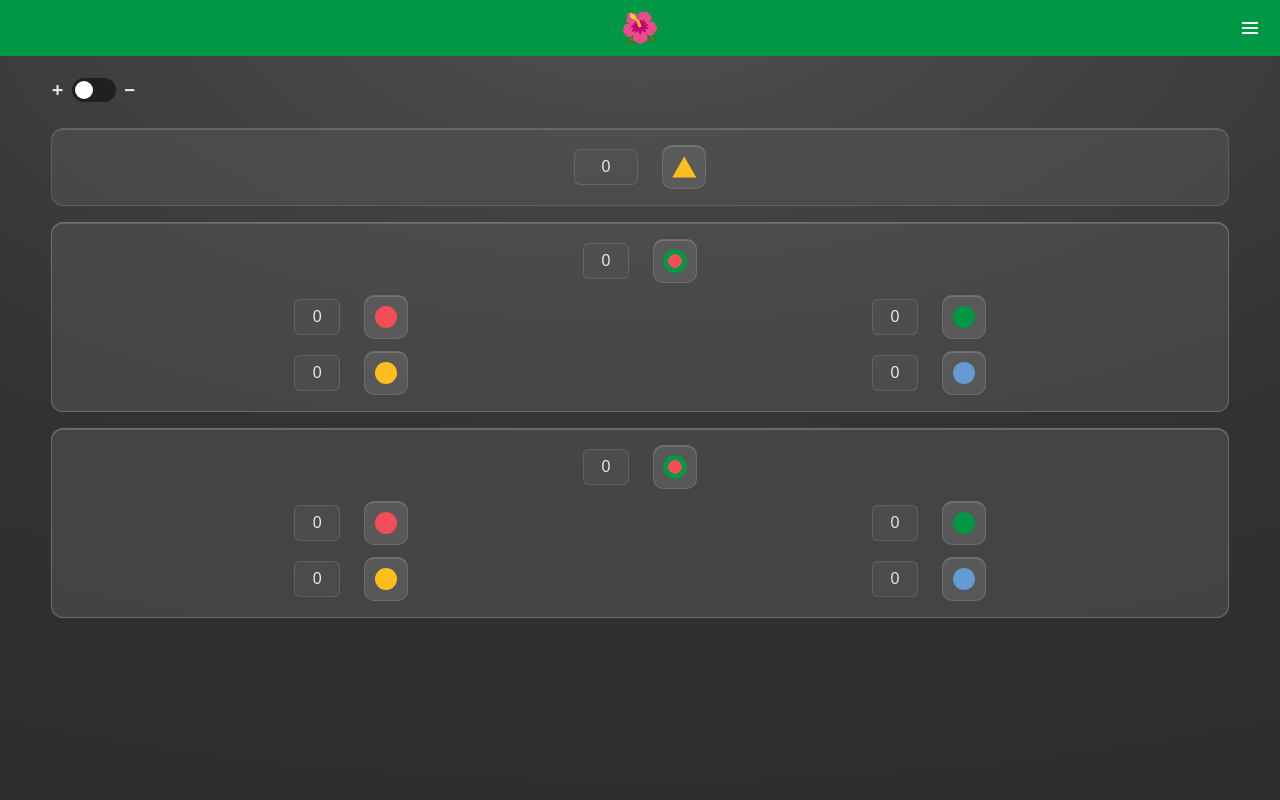
Test case: サイドメニュー › メニューボタン押下でサイドメニューが開く
Click the button named "メニュー" at (1250, 28), box [1228, 6, 1272, 50]
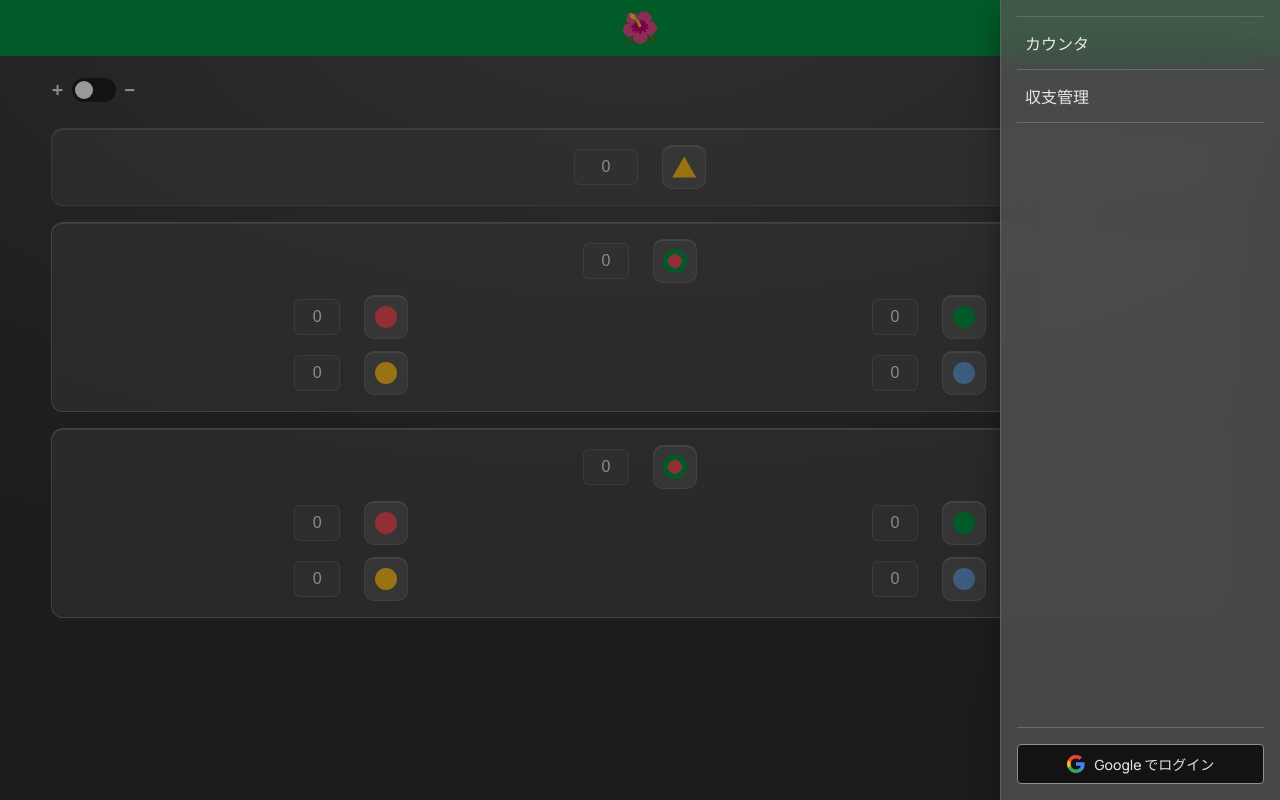
expect the link "カウンタ" is shown: met, box [1017, 17, 1264, 70]
